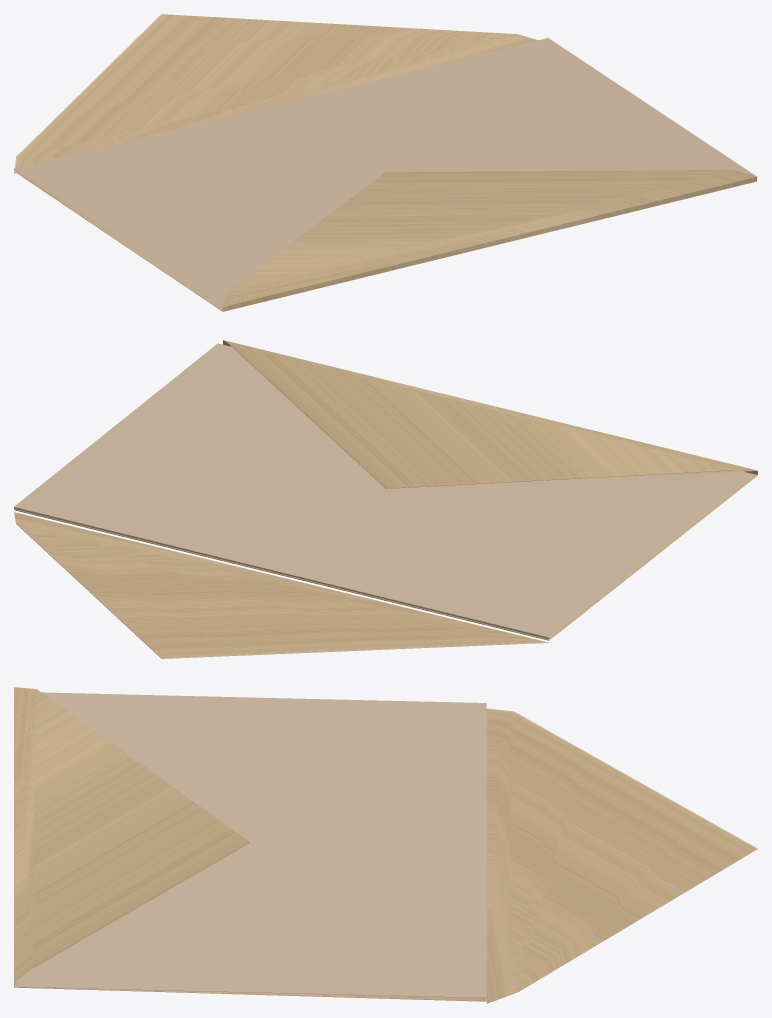
File: envelope.glb
3 renders of one model, top to bottom at view 1: azimuth 30°, elevation 25°; view 2: azimuth 150°, elevation 25°; view 3: azimuth 270°, elevation 25°, orthographic. The views are drawn at different scales.
Parts seen in each view (by area): view 1: envelope, topEnvelope; view 2: envelope, topEnvelope; view 3: envelope, topEnvelope.
Boxes of the visible parts, x1,y1,x2,y2 form: envelope: (14, 38, 757, 311); topEnvelope: (14, 14, 537, 173); envelope: (14, 340, 757, 640); topEnvelope: (14, 512, 548, 658); envelope: (14, 687, 486, 1001); topEnvelope: (486, 708, 757, 1003).
Size of the model in its own units: 1.05 by 0.0448 by 1.11.
1 material, 1 textured.
